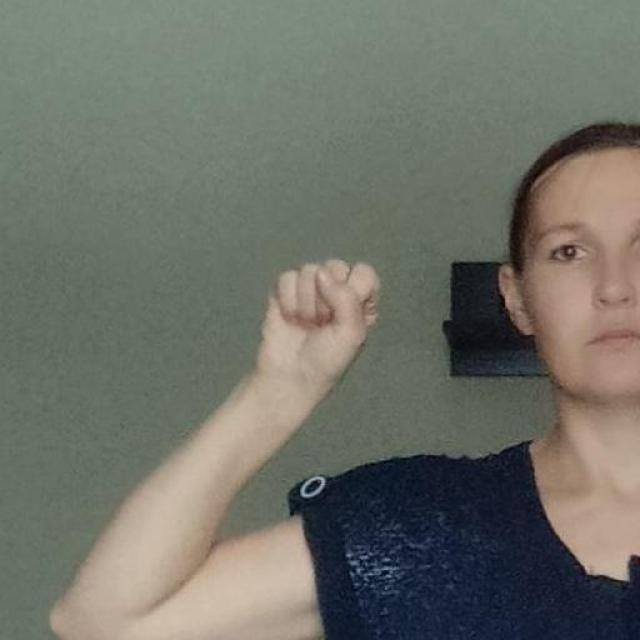hand: (254, 256, 381, 402)
